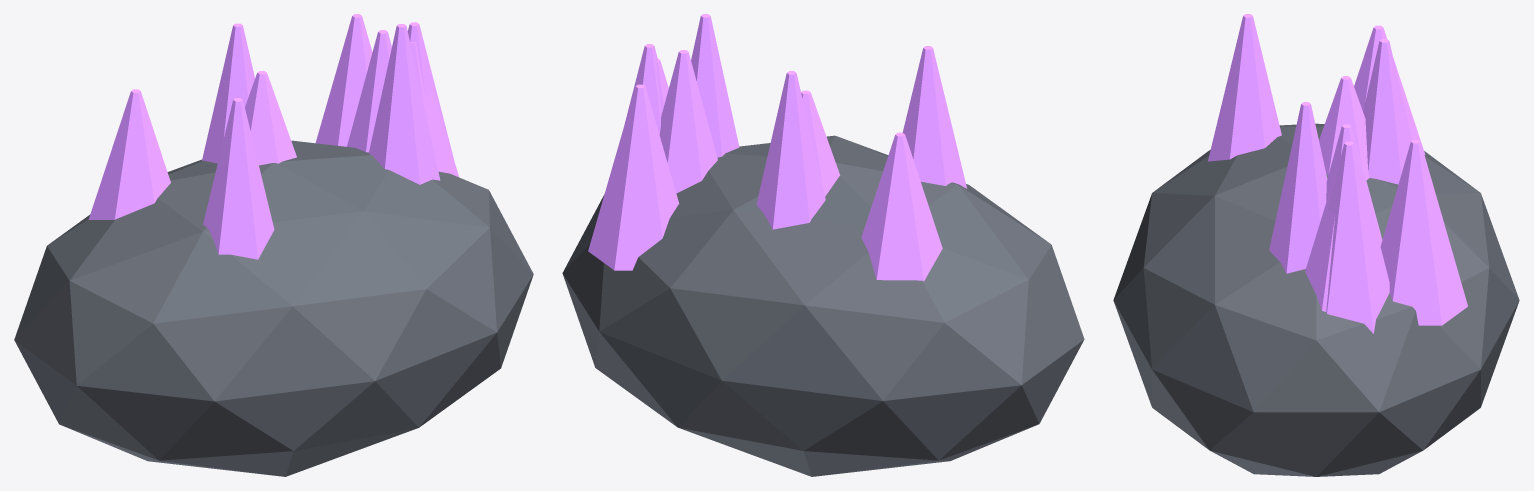
File: resource_ore_amethyst.glb
The picture shows the model from 3 angles, left to right: view 1: azimuth 30°, elevation 25°; view 2: azimuth 150°, elevation 25°; view 3: azimuth 270°, elevation 25°; orthographic projection.
Visible parts, largest first — view 1: RareOreBoulder, amethyst mineral cluster.006, amethyst mineral cluster.008, amethyst mineral cluster.001, amethyst mineral cluster.003, amethyst mineral cluster.007, amethyst mineral cluster, amethyst mineral cluster.004, amethyst mineral cluster.002, amethyst mineral cluster.005; view 2: RareOreBoulder, amethyst mineral cluster.003, amethyst mineral cluster.001, amethyst mineral cluster.007, amethyst mineral cluster.006, amethyst mineral cluster.004, amethyst mineral cluster.008, amethyst mineral cluster, amethyst mineral cluster.005; view 3: RareOreBoulder, amethyst mineral cluster.003, amethyst mineral cluster.005, amethyst mineral cluster.006, amethyst mineral cluster.008, amethyst mineral cluster.007, amethyst mineral cluster, amethyst mineral cluster.002, amethyst mineral cluster.001, amethyst mineral cluster.004.
Part boxes in pixels (bbox=[...]): RareOreBoulder: bbox=[14, 140, 533, 476]; amethyst mineral cluster.006: bbox=[203, 98, 274, 259]; amethyst mineral cluster.008: bbox=[368, 24, 440, 184]; amethyst mineral cluster.001: bbox=[88, 89, 170, 219]; amethyst mineral cluster.003: bbox=[315, 14, 372, 146]; amethyst mineral cluster.007: bbox=[202, 23, 254, 163]; amethyst mineral cluster: bbox=[245, 71, 296, 165]; amethyst mineral cluster.004: bbox=[347, 30, 391, 152]; amethyst mineral cluster.002: bbox=[410, 42, 458, 177]; amethyst mineral cluster.005: bbox=[407, 22, 453, 158]; RareOreBoulder: bbox=[562, 135, 1084, 476]; amethyst mineral cluster.003: bbox=[588, 84, 679, 270]; amethyst mineral cluster.001: bbox=[861, 132, 942, 281]; amethyst mineral cluster.007: bbox=[756, 71, 825, 229]; amethyst mineral cluster.006: bbox=[902, 46, 966, 188]; amethyst mineral cluster.004: bbox=[659, 50, 717, 193]; amethyst mineral cluster.008: bbox=[691, 14, 739, 157]; amethyst mineral cluster: bbox=[801, 90, 840, 196]; amethyst mineral cluster.005: bbox=[625, 44, 661, 134]; RareOreBoulder: bbox=[1113, 123, 1519, 476]; amethyst mineral cluster.003: bbox=[1380, 140, 1467, 325]; amethyst mineral cluster.005: bbox=[1326, 141, 1389, 333]; amethyst mineral cluster.006: bbox=[1208, 14, 1281, 161]; amethyst mineral cluster.008: bbox=[1269, 102, 1327, 273]; amethyst mineral cluster.007: bbox=[1363, 39, 1412, 184]; amethyst mineral cluster: bbox=[1319, 76, 1369, 180]; amethyst mineral cluster.002: bbox=[1305, 156, 1340, 311]; amethyst mineral cluster.001: bbox=[1354, 25, 1425, 155]; amethyst mineral cluster.004: bbox=[1326, 124, 1382, 246].
Bounding box in the file's own units: 1.62 × 1.36 × 1.24.
